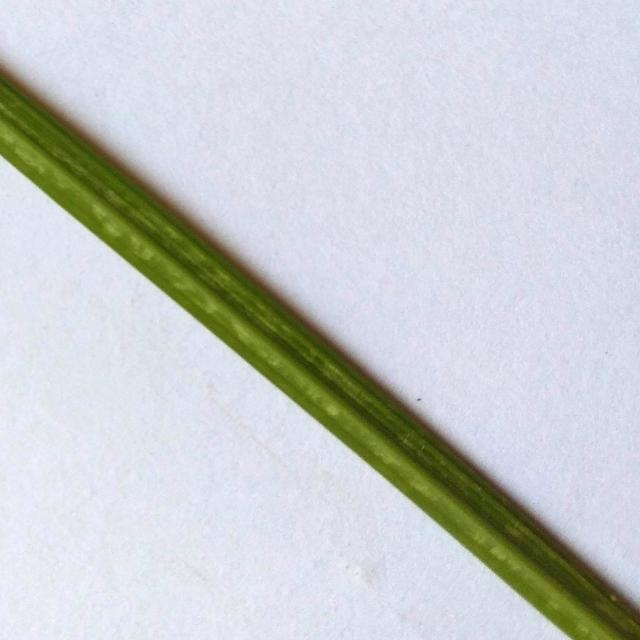Rice_Healthy: (0, 72, 640, 640)
